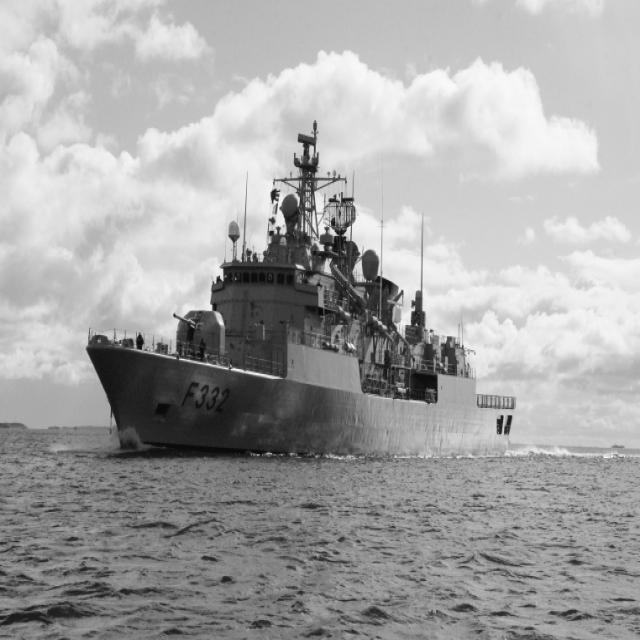Fragata: (80, 116, 524, 454)
